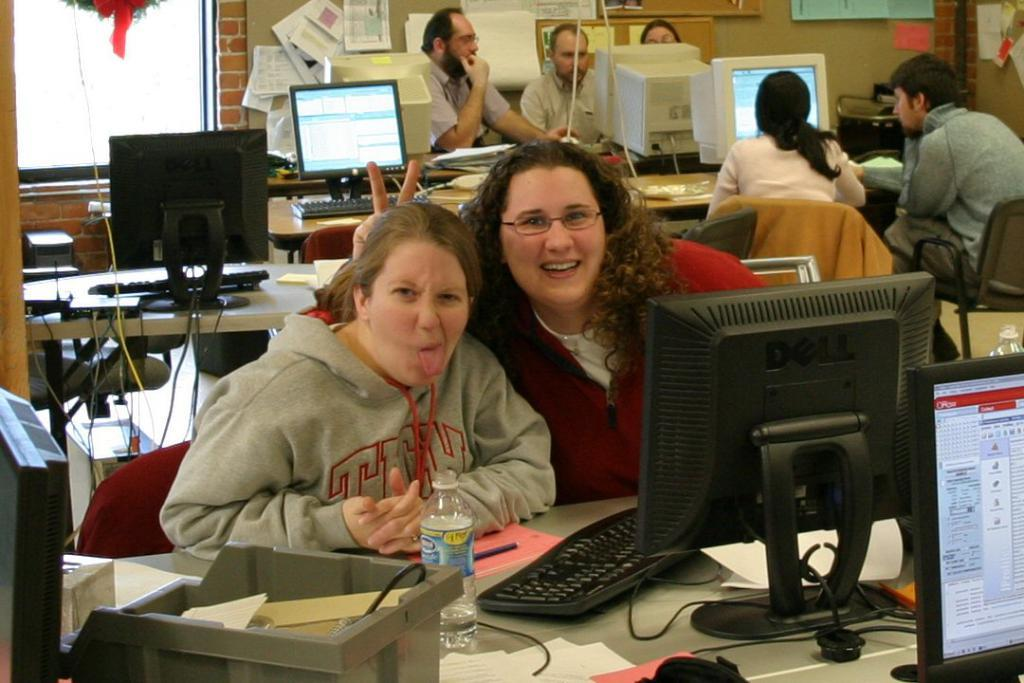Computer-monitor: (634, 269, 937, 640), (106, 126, 270, 311), (287, 76, 409, 195)
